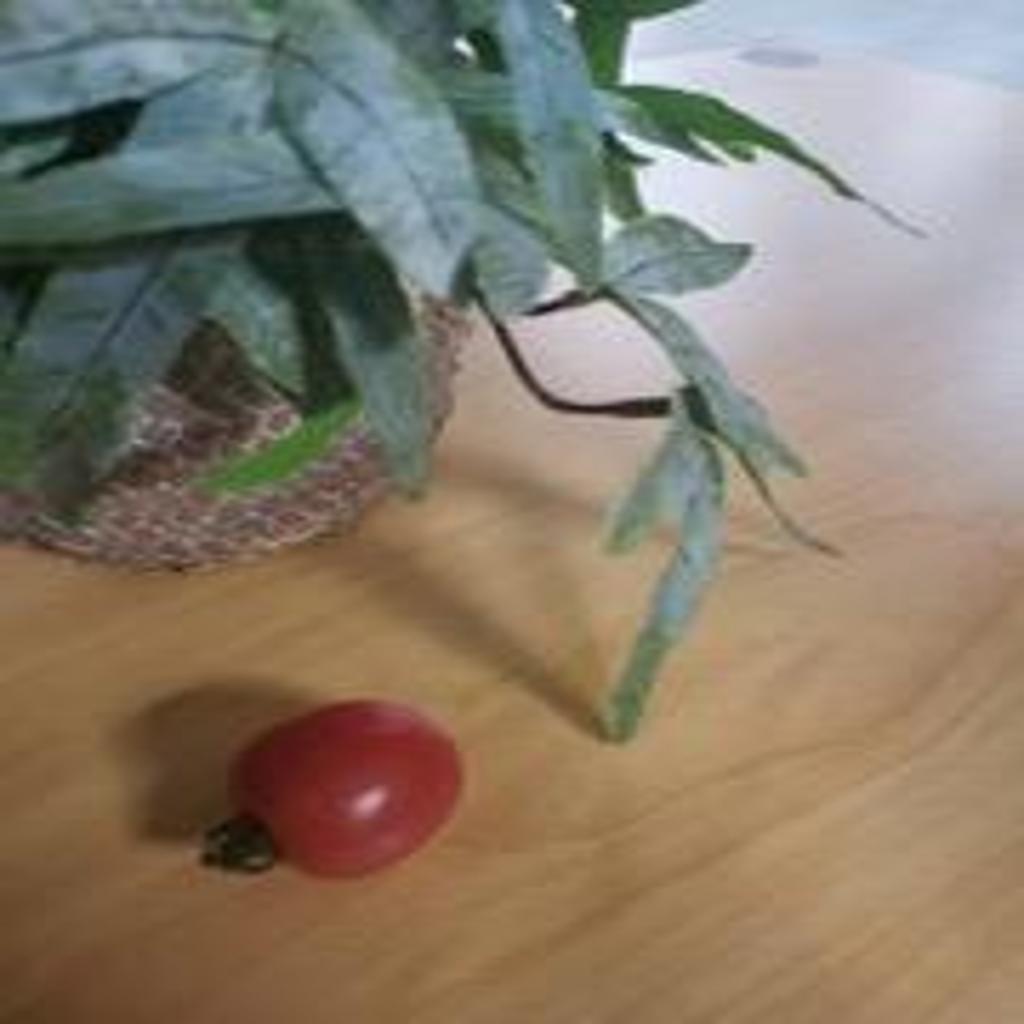tomato: (230, 703, 485, 878)
